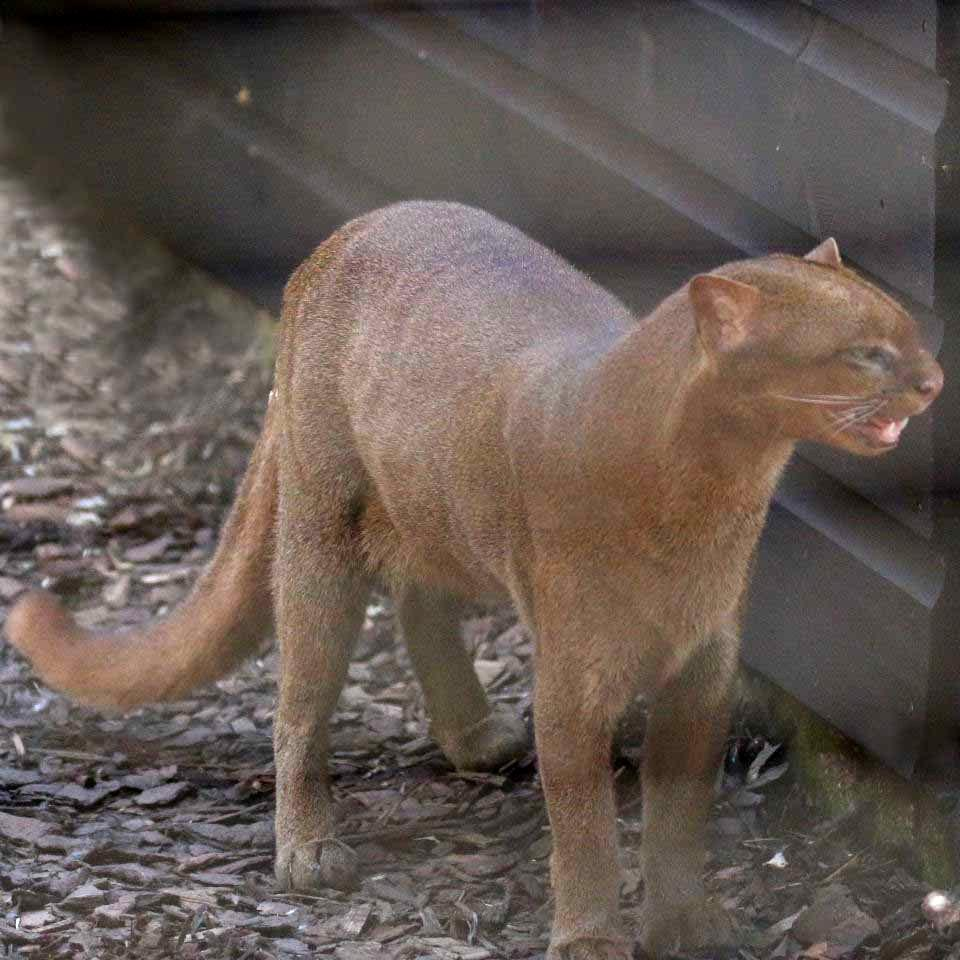Jaguarundi: (7, 187, 949, 926)
